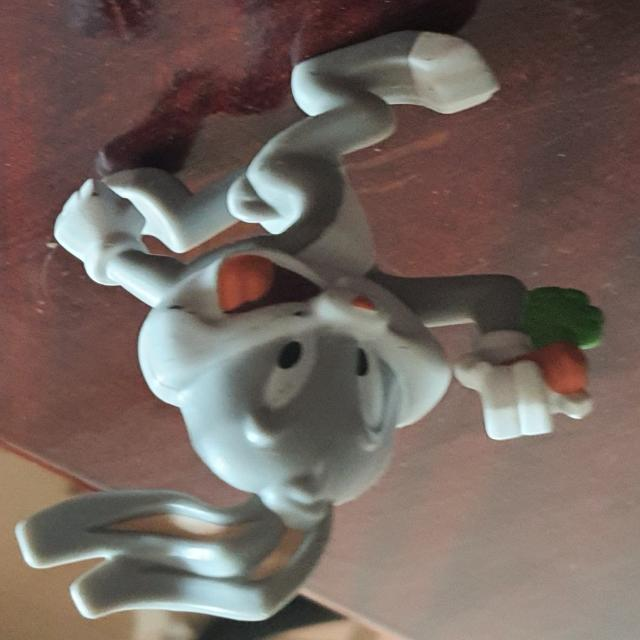Rabbit: (14, 28, 604, 622)
